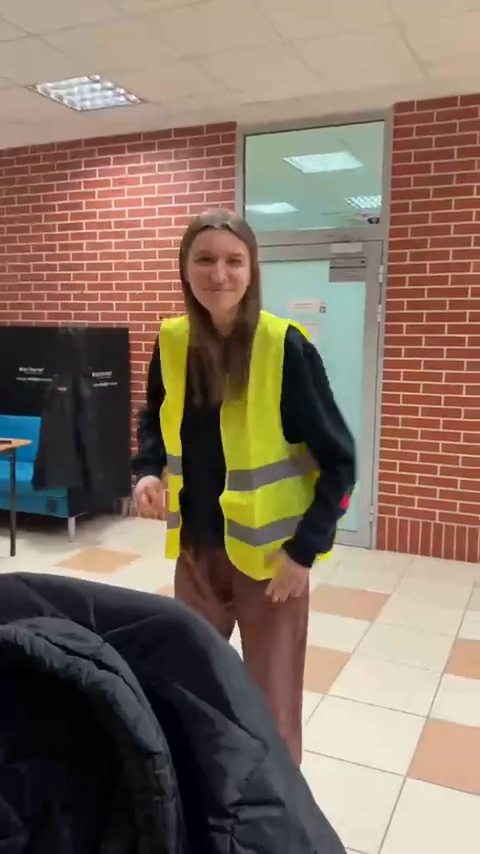vest: (139, 204, 350, 706)
